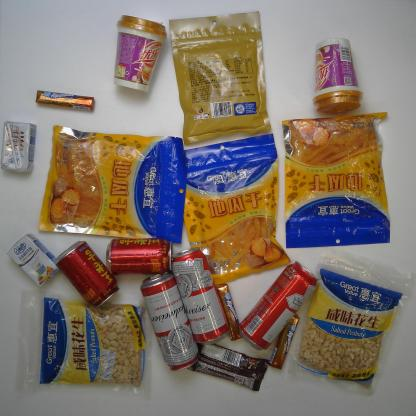Alcohol: (238, 258, 323, 353), (138, 270, 200, 373), (168, 246, 229, 346)
Candy: (267, 310, 302, 370), (215, 282, 244, 344), (33, 88, 97, 115)
Chocolate: (186, 338, 271, 394)
Dried Fruit: (163, 130, 294, 292), (35, 123, 190, 248), (285, 253, 416, 398), (279, 109, 397, 249), (13, 285, 155, 398), (167, 7, 272, 145)
Drink: (54, 239, 123, 310), (103, 238, 178, 275)
Instant Drink: (111, 12, 167, 94), (312, 36, 362, 117)
Milk: (8, 233, 62, 289), (1, 120, 38, 176)
